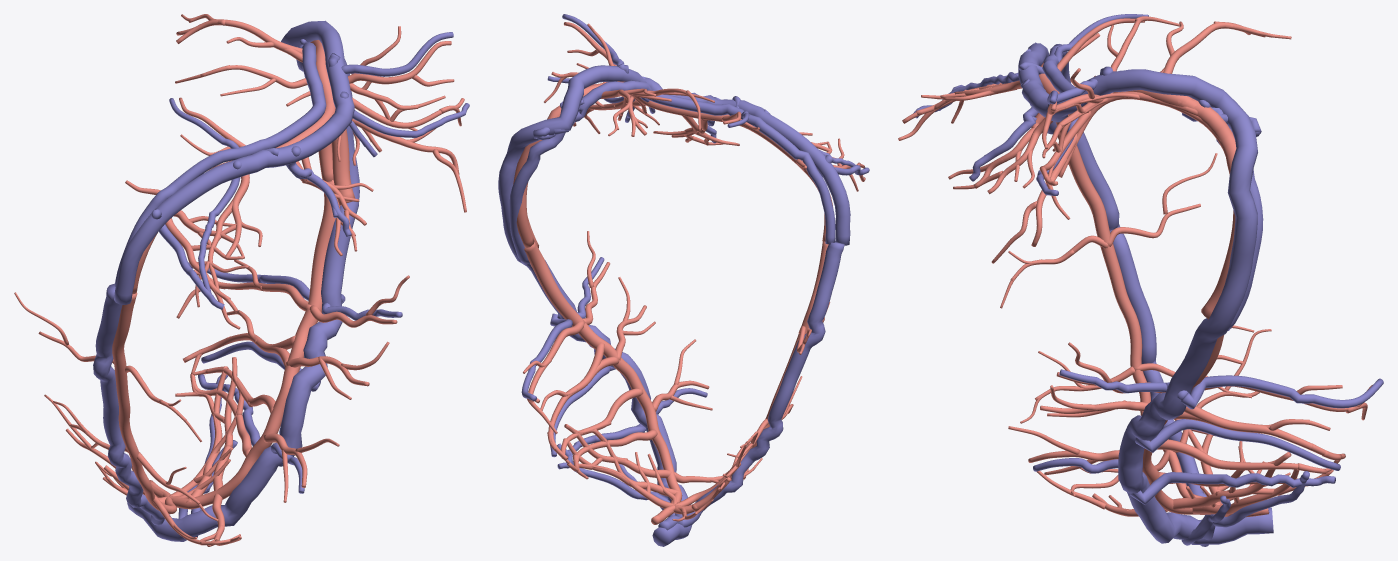
File: vessels_15.glb
3 renders of one model, left to right at view 1: azimuth 30°, elevation 25°; view 2: azimuth 150°, elevation 25°; view 3: azimuth 270°, elevation 25°, orthographic. The views are drawn at different scales.
Visible parts, largest first — view 1: Renderer Node; view 2: Renderer Node; view 3: Renderer Node.
Part boxes in pixels (box(x1,y1,x2,y2)): Renderer Node: box(14, 14, 469, 546); Renderer Node: box(498, 14, 869, 546); Renderer Node: box(898, 14, 1383, 546).
Size of the model in its own units: 94.54 by 122 by 95.05.
